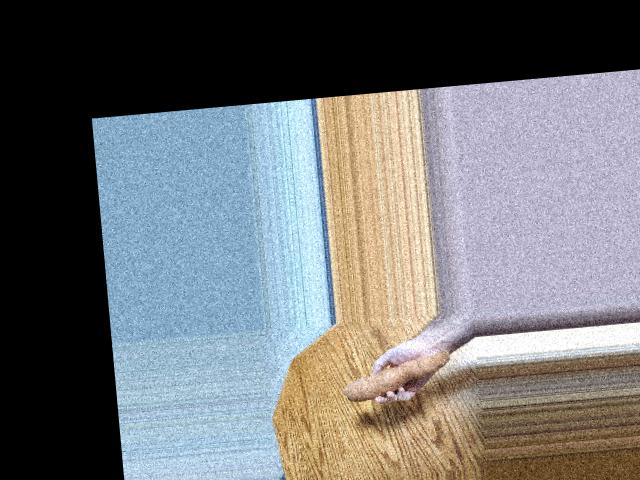sweet_potato: (346, 355, 447, 405)
